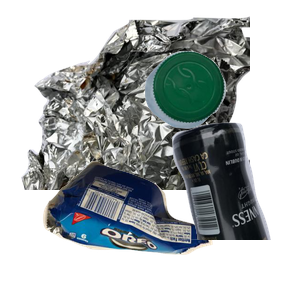glass: (106, 120, 300, 300)
metal: (19, 14, 259, 194)
plastic: (142, 48, 300, 169)
trash: (40, 158, 245, 300)
